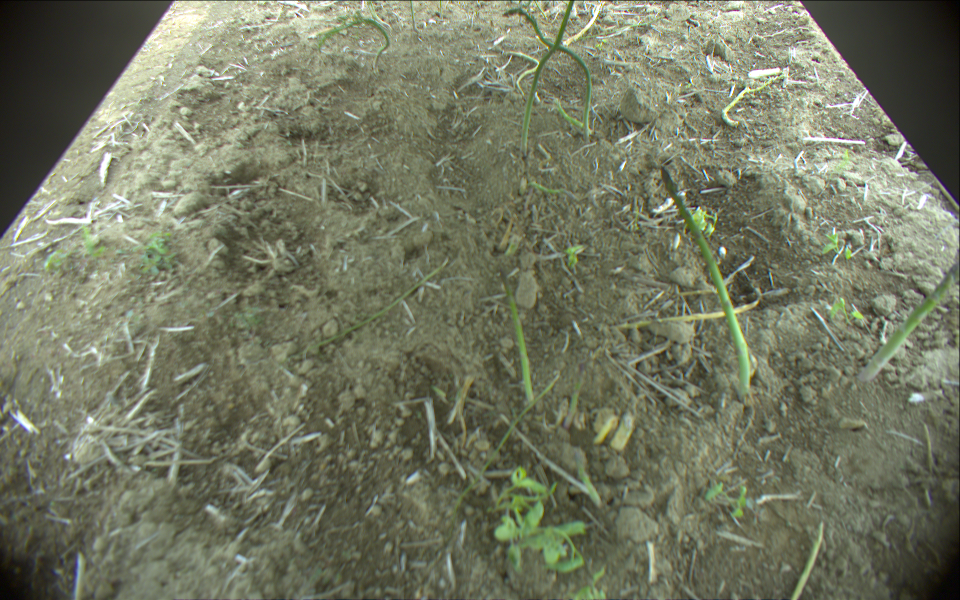aspa: (663, 168, 752, 397), (307, 259, 447, 351), (860, 255, 960, 381), (502, 9, 592, 135), (519, 1, 573, 155), (497, 268, 535, 406), (318, 17, 391, 73), (722, 73, 784, 129), (786, 521, 827, 600), (408, 1, 417, 28)
